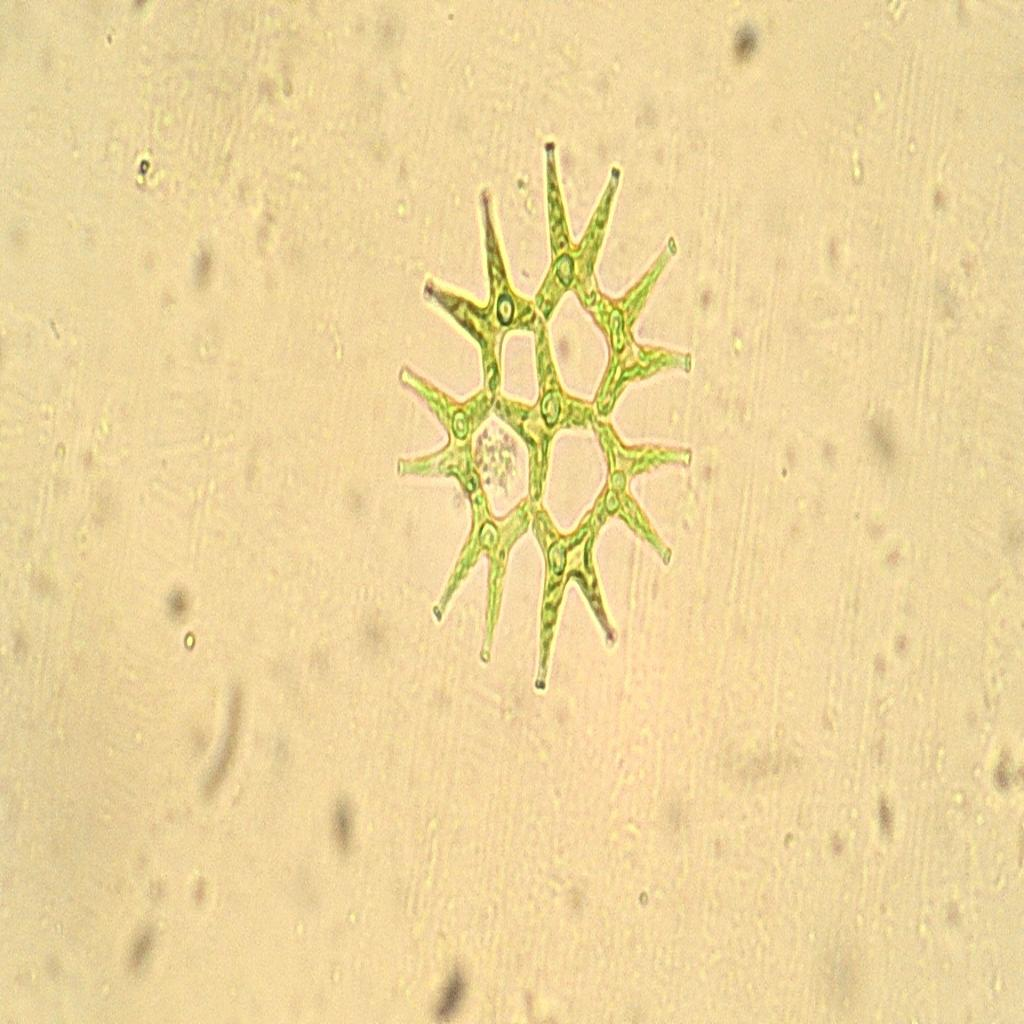Pediastrum_CTH: (368, 119, 733, 718)
